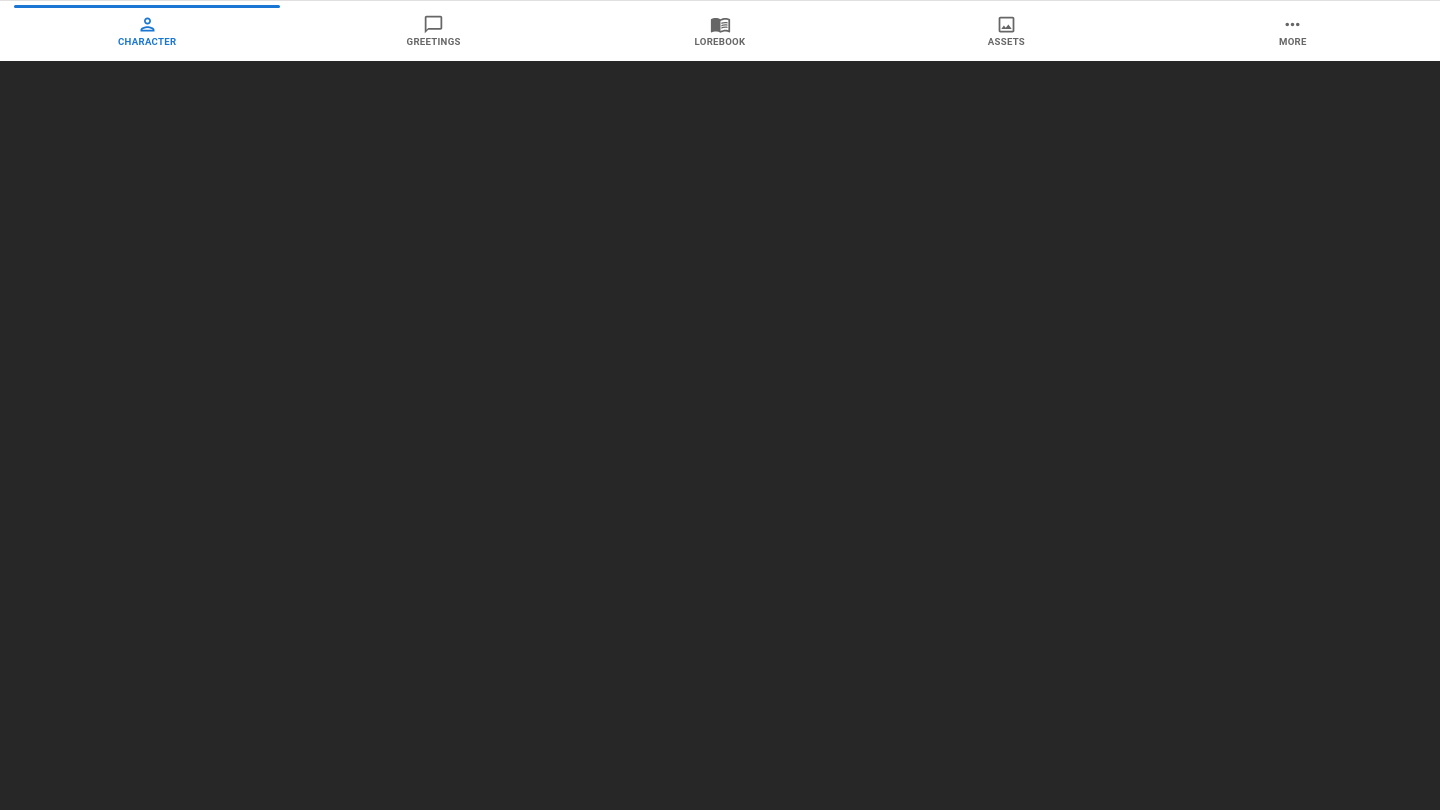
Test case: MobileNav › switches to a secondary section from the More sheet
Later steps or results of the test are not shown.
Click the button "More".
click(1293, 31)  # box [1152, 5, 1434, 57]
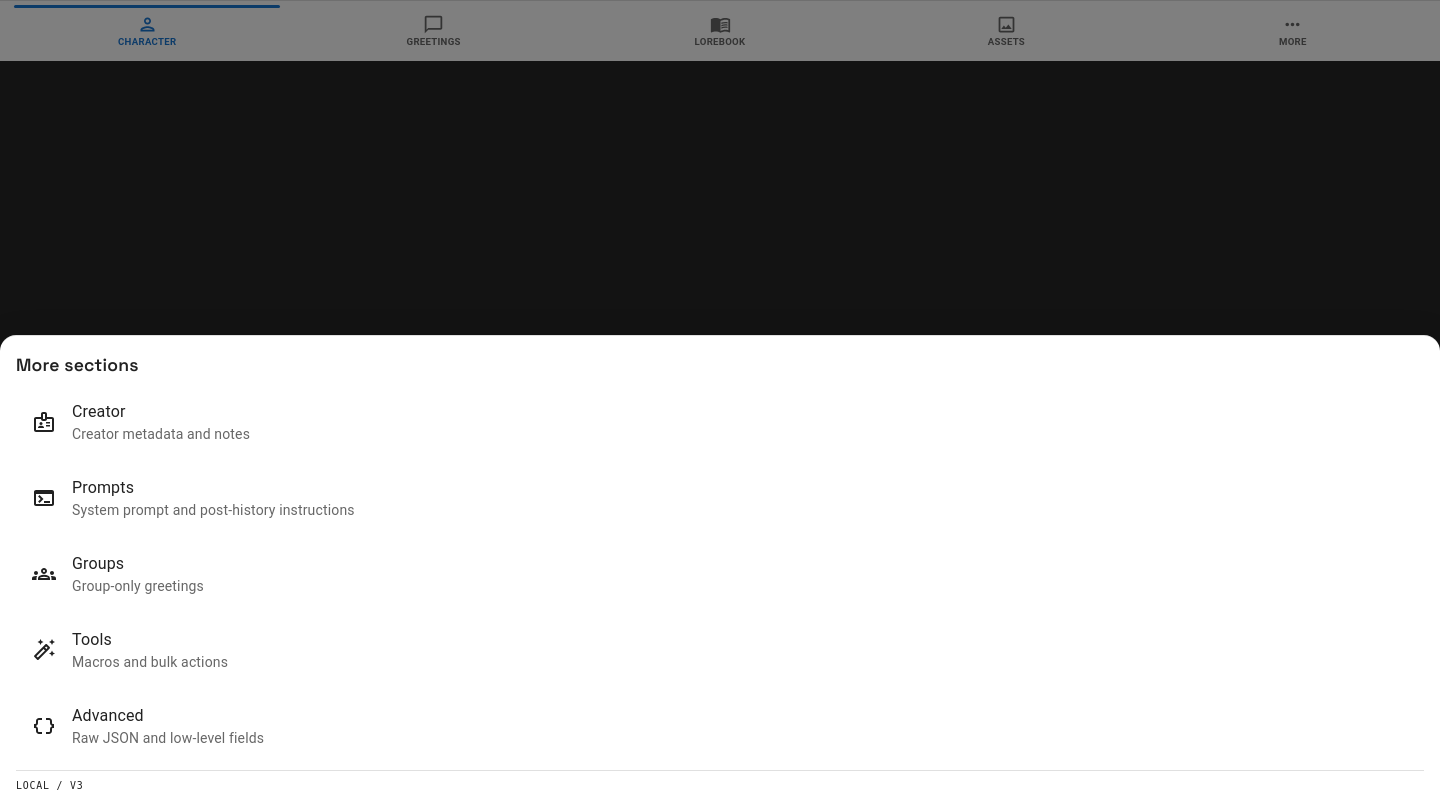
Check: the heading "More sections" is shown, box [16, 354, 139, 376]
